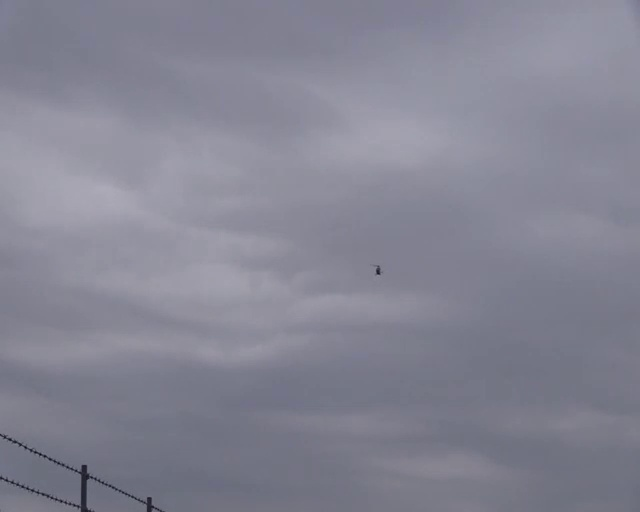HELICOPTER: (371, 264, 382, 275)
